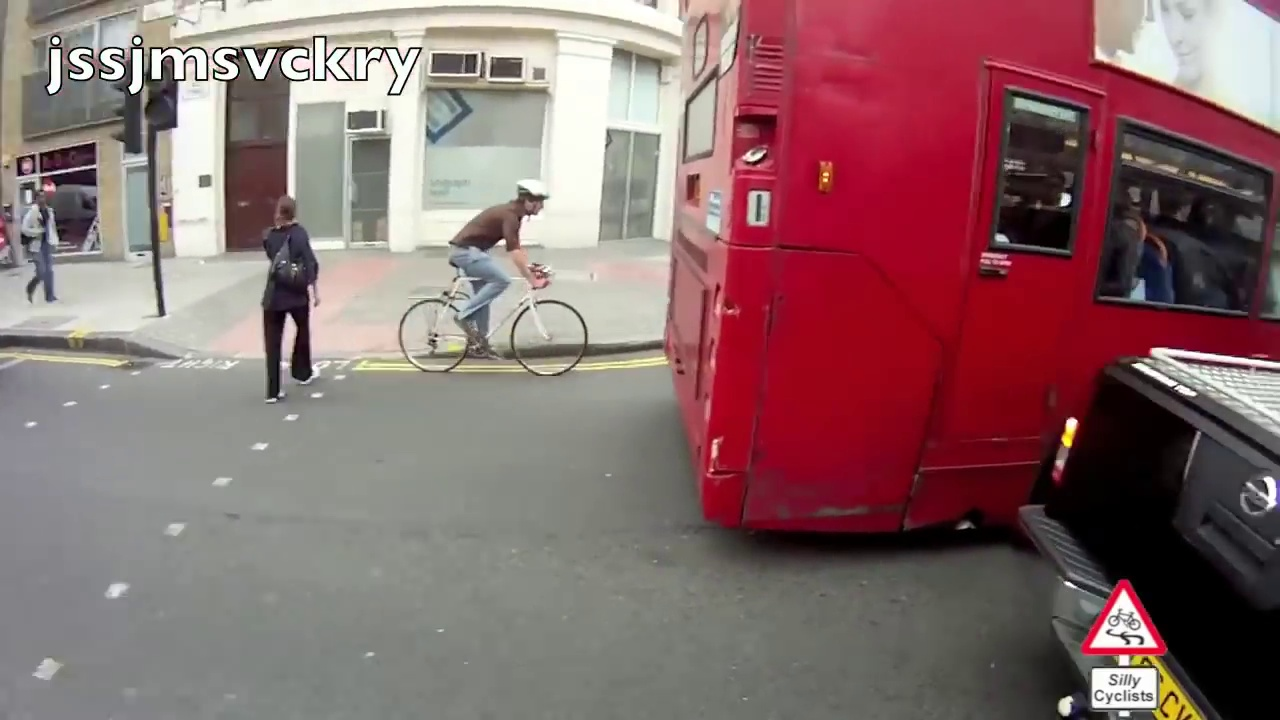cyclist_side: (394, 171, 593, 379)
